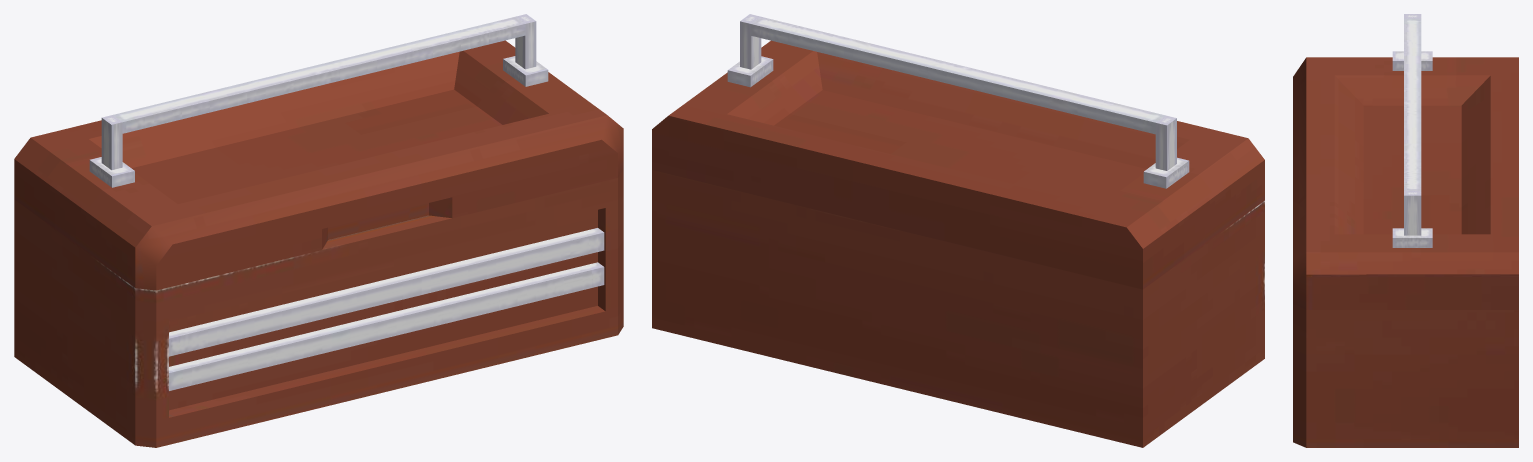
Rendered from Tool_ToolBox.glb.
The picture shows the model from 3 angles, left to right: view 1: azimuth 30°, elevation 25°; view 2: azimuth 150°, elevation 25°; view 3: azimuth 270°, elevation 25°; orthographic projection. The views are drawn at different scales.
Parts seen in each view (by area): view 1: Tool_ToolBox, Tool_ToolBox_Lid; view 2: Tool_ToolBox, Tool_ToolBox_Lid; view 3: Tool_ToolBox_Lid, Tool_ToolBox.
Boxes of the visible parts, x1,y1,x2,y2 form: Tool_ToolBox: [14, 169, 623, 447]; Tool_ToolBox_Lid: [14, 14, 623, 290]; Tool_ToolBox: [652, 170, 1264, 447]; Tool_ToolBox_Lid: [652, 14, 1264, 289]; Tool_ToolBox_Lid: [1293, 14, 1518, 309]; Tool_ToolBox: [1293, 304, 1518, 447].
Bounding box in the file's own units: 0.6448 × 0.3435 × 0.2946.
Materials: 1 (1 with a texture image).
